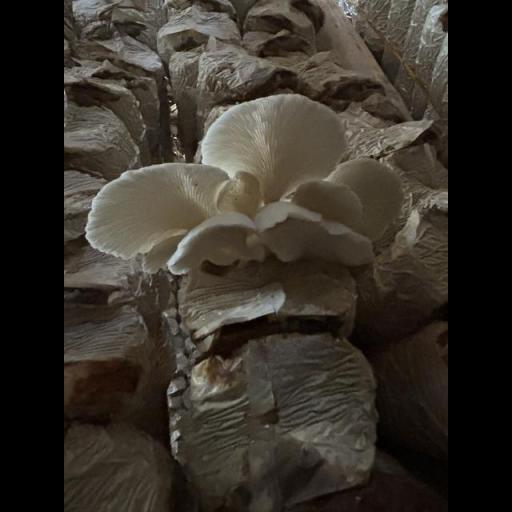White Oyster Mushroom: (83, 90, 415, 271)
